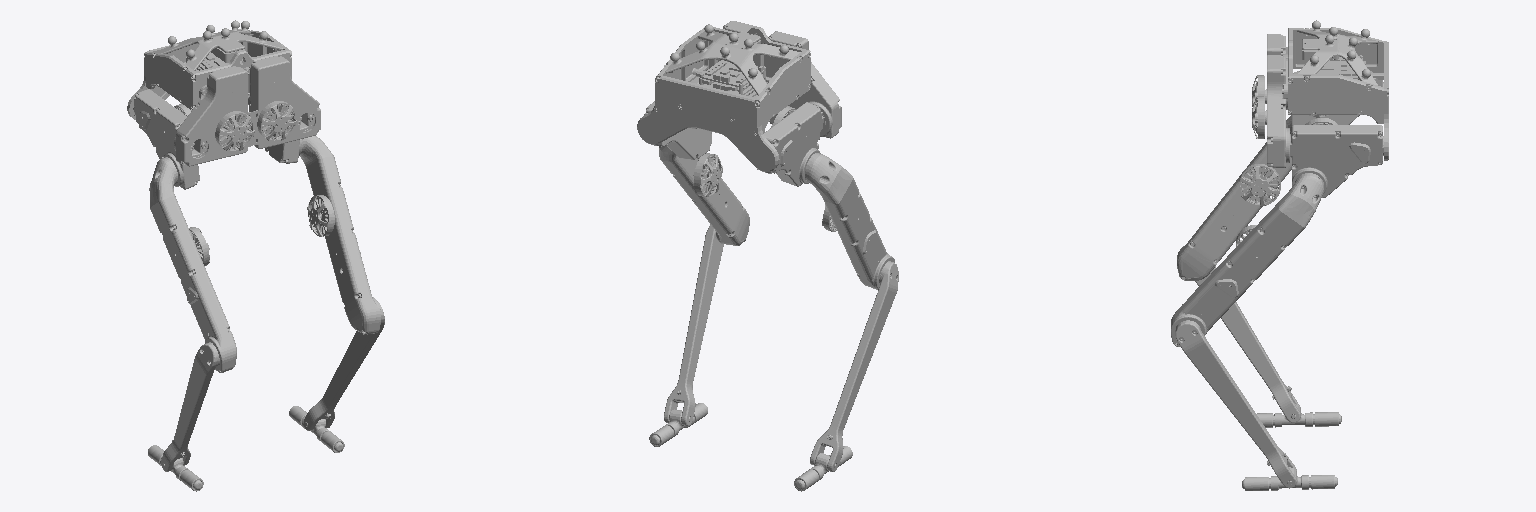
The robot description file, URDF, robot "__bl_biped":
<?xml version="1.0" encoding="utf-8"?>
<!-- This URDF was automatically created by SolidWorks to URDF Exporter! Originally created by Stephen Brawner (brawner@gmail.com) 
     Commit Version: 1.6.0-4-g7f85cfe  Build Version: 1.6.7995.38578
     For more information, please see http://wiki.ros.org/sw_urdf_exporter -->
<robot
  name="__bl_biped">
  <link
    name="base_link">
    <inertial>
      <origin
        xyz="7.4194E-05 0.048506 0.052268"
        rpy="0 0 0" />
      <mass
        value="0.15295" />
      <inertia
        ixx="6.4373E-05"
        ixy="-3.5521E-08"
        ixz="3.4441E-07"
        iyy="0.00014322"
        iyz="-3.3976E-06"
        izz="0.0001144" />
    </inertial>
    <visual>
      <origin
        xyz="0 0 0"
        rpy="0 0 0" />
      <geometry>
        <mesh
          filename="package://practice_biped_robot/meshes/base_link.STL" />
      </geometry>
      <material
        name="">
        <color
          rgba="0.75294 0.75294 0.75294 1" />
      </material>
    </visual>
    <collision>
      <origin
        xyz="0 0 0"
        rpy="0 0 0" />
      <geometry>
        <mesh
          filename="package://practice_biped_robot/meshes/base_link.STL" />
      </geometry>
    </collision>
  </link>
  <link
    name="hip_aa_left_side_bl_biped">
    <inertial>
      <origin
        xyz="-0.0017924 0.028387 -0.021631"
        rpy="0 0 0" />
      <mass
        value="0.093503" />
      <inertia
        ixx="6.6139E-05"
        ixy="-4.3362E-07"
        ixz="9.8289E-07"
        iyy="4.2159E-05"
        iyz="1.0505E-05"
        izz="3.0749E-05" />
    </inertial>
    <visual>
      <origin
        xyz="0 0 0"
        rpy="0 0 0" />
      <geometry>
        <mesh
          filename="package://practice_biped_robot/meshes/hip_aa_left_side_bl_biped.STL" />
      </geometry>
      <material
        name="">
        <color
          rgba="0.75294 0.75294 0.75294 1" />
      </material>
    </visual>
    <collision>
      <origin
        xyz="0 0 0"
        rpy="0 0 0" />
      <geometry>
        <mesh
          filename="package://practice_biped_robot/meshes/hip_aa_left_side_bl_biped.STL" />
      </geometry>
    </collision>
  </link>
  <joint
    name="hip_aa_left_side_bl_biped_joint"
    type="fixed">
    <origin
      xyz="-0.066 -0.1182 0"
      rpy="3.1416 0 1.5708" />
    <parent
      link="base_link" />
    <child
      link="hip_aa_left_side_bl_biped" />
    <axis
      xyz="0 0 0" />
  </joint>
  <link
    name="hip_fe_left_side_bl_biped">
    <inertial>
      <origin
        xyz="-0.00264656198378056 -0.0117373327096065 0.0449336453716666"
        rpy="0 0 0" />
      <mass
        value="0.0875377233211831" />
      <inertia
        ixx="6.82008834854275E-05"
        ixy="-2.03003326659631E-07"
        ixz="-2.45175493755949E-07"
        iyy="4.5069453666998E-05"
        iyz="-9.45093477969188E-06"
        izz="2.91118242506948E-05" />
    </inertial>
    <visual>
      <origin
        xyz="0 0 0"
        rpy="0 0 0" />
      <geometry>
        <mesh
          filename="package://practice_biped_robot/meshes/hip_fe_left_side_bl_biped.STL" />
      </geometry>
      <material
        name="">
        <color
          rgba="0.752941176470588 0.752941176470588 0.752941176470588 1" />
      </material>
    </visual>
    <collision>
      <origin
        xyz="0 0 0"
        rpy="0 0 0" />
      <geometry>
        <mesh
          filename="package://practice_biped_robot/meshes/hip_fe_left_side_bl_biped.STL" />
      </geometry>
    </collision>
  </link>
  <joint
    name="hip_fe_left_side_bl_biped_joint"
    type="continuous">
    <origin
      xyz="0.01 0 0"
      rpy="-1.5708 -0.12129 -1.5708" />
    <parent
      link="hip_aa_left_side_bl_biped" />
    <child
      link="hip_fe_left_side_bl_biped" />
    <axis
      xyz="0 0 1" />
  </joint>
  <link
    name="upper_leg_left">
    <inertial>
      <origin
        xyz="0.0337049648914777 -2.07744355823769E-05 -0.109703593119716"
        rpy="0 0 0" />
      <mass
        value="0.10377648641822" />
      <inertia
        ixx="0.000268105400038996"
        ixy="-1.13514210027242E-08"
        ixz="1.27896688803571E-05"
        iyy="0.000261762248291606"
        iyz="6.97692640896009E-08"
        izz="1.68226262641879E-05" />
    </inertial>
    <visual>
      <origin
        xyz="0 0 0"
        rpy="0 0 0" />
      <geometry>
        <mesh
          filename="package://practice_biped_robot/meshes/upper_leg_left.STL" />
      </geometry>
      <material
        name="">
        <color
          rgba="0.752941176470588 0.752941176470588 0.752941176470588 1" />
      </material>
    </visual>
    <collision>
      <origin
        xyz="0 0 0"
        rpy="0 0 0" />
      <geometry>
        <mesh
          filename="package://practice_biped_robot/meshes/upper_leg_left.STL" />
      </geometry>
    </collision>
  </link>
  <joint
    name="upper_leg_left_joint"
    type="continuous">
    <origin
      xyz="0 -0.04009 0.02445"
      rpy="-0.92879 0 0" />
    <parent
      link="hip_fe_left_side_bl_biped" />
    <child
      link="upper_leg_left" />
    <axis
      xyz="1 0 0" />
  </joint>
  <link
    name="lower_leg_left">
    <inertial>
      <origin
        xyz="-0.0385220333250463 -2.05346427539776E-06 -0.0881749362172527"
        rpy="0 0 0" />
      <mass
        value="0.053970406394337" />
      <inertia
        ixx="0.000210304316971374"
        ixy="-2.90237032213267E-11"
        ixz="-3.23159186131294E-06"
        iyy="0.000209791725136052"
        iyz="-7.12590129571036E-11"
        izz="3.06150796682135E-06" />
    </inertial>
    <visual>
      <origin
        xyz="0 0 0"
        rpy="0 0 0" />
      <geometry>
        <mesh
          filename="package://practice_biped_robot/meshes/lower_leg_left.STL" />
      </geometry>
      <material
        name="">
        <color
          rgba="0.752941176470588 0.752941176470588 0.752941176470588 1" />
      </material>
    </visual>
    <collision>
      <origin
        xyz="0 0 0"
        rpy="0 0 0" />
      <geometry>
        <mesh
          filename="package://practice_biped_robot/meshes/lower_leg_left.STL" />
      </geometry>
    </collision>
  </link>
  <joint
    name="lower_leg_left_joint"
    type="continuous">
    <origin
      xyz="0.01997 0 -0.2"
      rpy="1.1856 0 -3.1416" />
    <parent
      link="upper_leg_left" />
    <child
      link="lower_leg_left" />
    <axis
      xyz="1 0 0" />
  </joint>
  <link
    name="foot_left">
    <inertial>
      <origin
        xyz="5.99032361769947E-08 -0.00700427543915016 1.85583393930155E-08"
        rpy="0 0 0" />
      <mass
        value="0.0165935434374477" />
      <inertia
        ixx="8.21666243950823E-06"
        ixy="3.57318266999016E-12"
        ixz="2.36883054385825E-11"
        iyy="8.10382689201121E-06"
        iyz="-3.08746634705909E-12"
        izz="5.50701454433249E-07" />
    </inertial>
    <visual>
      <origin
        xyz="0 0 0"
        rpy="0 0 0" />
      <geometry>
        <mesh
          filename="package://practice_biped_robot/meshes/foot_left.STL" />
      </geometry>
      <material
        name="">
        <color
          rgba="0.752941176470588 0.752941176470588 0.752941176470588 1" />
      </material>
    </visual>
    <collision>
      <origin
        xyz="0 0 0"
        rpy="0 0 0" />
      <geometry>
        <mesh
          filename="package://practice_biped_robot/meshes/foot_left.STL" />
      </geometry>
    </collision>
  </link>
  <joint
    name="foot_left_joint"
    type="fixed">
    <origin
      xyz="-0.03943 0 -0.2"
      rpy="1.0472 0 0" />
    <parent
      link="lower_leg_left" />
    <child
      link="foot_left" />
    <axis
      xyz="0 0 0" />
  </joint>
  <link
    name="hip_aa_right_side_bl_biped">
    <inertial>
      <origin
        xyz="-0.0017935 -0.028388 -0.021631"
        rpy="0 0 0" />
      <mass
        value="0.093502" />
      <inertia
        ixx="6.6138E-05"
        ixy="4.3374E-07"
        ixz="9.8305E-07"
        iyy="4.216E-05"
        iyz="-1.0503E-05"
        izz="3.0749E-05" />
    </inertial>
    <visual>
      <origin
        xyz="0 0 0"
        rpy="0 0 0" />
      <geometry>
        <mesh
          filename="package://practice_biped_robot/meshes/hip_aa_right_side_bl_biped.STL" />
      </geometry>
      <material
        name="">
        <color
          rgba="0.75294 0.75294 0.75294 1" />
      </material>
    </visual>
    <collision>
      <origin
        xyz="0 0 0"
        rpy="0 0 0" />
      <geometry>
        <mesh
          filename="package://practice_biped_robot/meshes/hip_aa_right_side_bl_biped.STL" />
      </geometry>
    </collision>
  </link>
  <joint
    name="hip_aa_right_side_bl_biped"
    type="fixed">
    <origin
      xyz="0.066 -0.1182 0"
      rpy="3.1416 0 1.5708" />
    <parent
      link="base_link" />
    <child
      link="hip_aa_right_side_bl_biped" />
    <axis
      xyz="0 0 0" />
  </joint>
  <link
    name="hip_fe_right_side_bl_biped">
    <inertial>
      <origin
        xyz="-0.00264759104456501 -0.0117375436090387 -0.0449332991893937"
        rpy="0 0 0" />
      <mass
        value="0.0875393673311257" />
      <inertia
        ixx="6.82030069011361E-05"
        ixy="-2.02901065429794E-07"
        ixz="2.45045267676802E-07"
        iyy="4.50813094160471E-05"
        iyz="9.44989188438618E-06"
        izz="2.9123047290005E-05" />
    </inertial>
    <visual>
      <origin
        xyz="0 0 0"
        rpy="0 0 0" />
      <geometry>
        <mesh
          filename="package://practice_biped_robot/meshes/hip_fe_right_side_bl_biped.STL" />
      </geometry>
      <material
        name="">
        <color
          rgba="0.752941176470588 0.752941176470588 0.752941176470588 1" />
      </material>
    </visual>
    <collision>
      <origin
        xyz="0 0 0"
        rpy="0 0 0" />
      <geometry>
        <mesh
          filename="package://practice_biped_robot/meshes/hip_fe_right_side_bl_biped.STL" />
      </geometry>
    </collision>
  </link>
  <joint
    name="hip_fe_right_side_bl_biped_joint"
    type="continuous">
    <origin
      xyz="0.01 0 0"
      rpy="-1.5708 -0.088416 1.5708" />
    <parent
      link="hip_aa_right_side_bl_biped" />
    <child
      link="hip_fe_right_side_bl_biped" />
    <axis
      xyz="0 0 1" />
  </joint>
  <link
    name="upper_leg_right">
    <inertial>
      <origin
        xyz="0.033705 -2.0751E-05 -0.1097"
        rpy="0 0 0" />
      <mass
        value="0.10378" />
      <inertia
        ixx="0.00026811"
        ixy="-1.1395E-08"
        ixz="1.2791E-05"
        iyy="0.00026175"
        iyz="6.9379E-08"
        izz="1.6808E-05" />
    </inertial>
    <visual>
      <origin
        xyz="0 0 0"
        rpy="0 0 0" />
      <geometry>
        <mesh
          filename="package://practice_biped_robot/meshes/upper_leg_right.STL" />
      </geometry>
      <material
        name="">
        <color
          rgba="0.75294 0.75294 0.75294 1" />
      </material>
    </visual>
    <collision>
      <origin
        xyz="0 0 0"
        rpy="0 0 0" />
      <geometry>
        <mesh
          filename="package://practice_biped_robot/meshes/upper_leg_right.STL" />
      </geometry>
    </collision>
  </link>
  <joint
    name="upper_leg_right_joint"
    type="continuous">
    <origin
      xyz="0 -0.04009 -0.02445"
      rpy="-2.2544 0 0" />
    <parent
      link="hip_fe_right_side_bl_biped" />
    <child
      link="upper_leg_right" />
    <axis
      xyz="1 0 0" />
  </joint>
  <link
    name="lower_leg_right">
    <inertial>
      <origin
        xyz="-0.013866 -2.0394E-06 -0.088175"
        rpy="0 0 0" />
      <mass
        value="0.05397" />
      <inertia
        ixx="0.0002103"
        ixy="-3.0611E-11"
        ixz="-3.2316E-06"
        iyy="0.00020979"
        iyz="-7.5916E-11"
        izz="3.0615E-06" />
    </inertial>
    <visual>
      <origin
        xyz="0 0 0"
        rpy="0 0 0" />
      <geometry>
        <mesh
          filename="package://practice_biped_robot/meshes/lower_leg_right.STL" />
      </geometry>
      <material
        name="">
        <color
          rgba="0.75294 0.75294 0.75294 1" />
      </material>
    </visual>
    <collision>
      <origin
        xyz="0 0 0"
        rpy="0 0 0" />
      <geometry>
        <mesh
          filename="package://practice_biped_robot/meshes/lower_leg_right.STL" />
      </geometry>
    </collision>
  </link>
  <joint
    name="lower_leg_right_joint"
    type="continuous">
    <origin
      xyz="0.044626 0 -0.2"
      rpy="-1.2419 0 3.1416" />
    <parent
      link="upper_leg_right" />
    <child
      link="lower_leg_right" />
    <axis
      xyz="1 0 0" />
  </joint>
  <link
    name="foot_right">
    <inertial>
      <origin
        xyz="7.0722E-08 -0.0070043 -4.6886E-09"
        rpy="0 0 0" />
      <mass
        value="0.016594" />
      <inertia
        ixx="8.2167E-06"
        ixy="2.3354E-12"
        ixz="2.0099E-11"
        iyy="8.1038E-06"
        iyz="1.9059E-12"
        izz="5.507E-07" />
    </inertial>
    <visual>
      <origin
        xyz="0 0 0"
        rpy="0 0 0" />
      <geometry>
        <mesh
          filename="package://practice_biped_robot/meshes/foot_right.STL" />
      </geometry>
      <material
        name="">
        <color
          rgba="0.75294 0.75294 0.75294 1" />
      </material>
    </visual>
    <collision>
      <origin
        xyz="0 0 0"
        rpy="0 0 0" />
      <geometry>
        <mesh
          filename="package://practice_biped_robot/meshes/foot_right.STL" />
      </geometry>
    </collision>
  </link>
  <joint
    name="foot_right_joint"
    type="fixed">
    <origin
      xyz="-0.014774 0 -0.2"
      rpy="1.0472 0 -3.1416" />
    <parent
      link="lower_leg_right" />
    <child
      link="foot_right" />
    <axis
      xyz="0 0 0" />
  </joint>
</robot>

--- What the picture shows (computed from the rendered views, not written in the file) ---
Views: 3 orthographic renders of the robot side by side, from view 1: azimuth 30°, elevation 25°; view 2: azimuth 150°, elevation 25°; view 3: azimuth 270°, elevation 25°.
Model __bl_biped with 11 links and 10 joints (6 continuous, 4 fixed), rooted at base_link, posed every joint at zero.
Visible links, largest first — view 1: base_link, upper_leg_right, upper_leg_left, hip_aa_left_side_bl_biped, hip_aa_right_side_bl_biped, hip_fe_left_side_bl_biped, lower_leg_left, lower_leg_right, foot_right, foot_left, hip_fe_right_side_bl_biped; view 2: base_link, upper_leg_left, upper_leg_right, lower_leg_left, lower_leg_right, hip_fe_left_side_bl_biped, hip_aa_left_side_bl_biped, hip_fe_right_side_bl_biped, foot_right, foot_left; view 3: base_link, upper_leg_right, upper_leg_left, hip_fe_right_side_bl_biped, lower_leg_right, hip_aa_right_side_bl_biped, lower_leg_left, foot_right, foot_left, hip_aa_left_side_bl_biped.
Link boxes in pixels (left/top/right/bottom): base_link: left=127, top=20, right=291, bottom=119; upper_leg_right: left=300, top=136, right=380, bottom=334; upper_leg_left: left=149, top=157, right=236, bottom=372; hip_aa_left_side_bl_biped: left=174, top=66, right=254, bottom=166; hip_aa_right_side_bl_biped: left=244, top=56, right=320, bottom=148; hip_fe_left_side_bl_biped: left=134, top=89, right=199, bottom=189; lower_leg_left: left=161, top=342, right=219, bottom=471; lower_leg_right: left=304, top=301, right=384, bottom=430; foot_right: left=289, top=406, right=344, bottom=452; foot_left: left=148, top=445, right=203, bottom=491; hip_fe_right_side_bl_biped: left=248, top=99, right=302, bottom=163; base_link: left=637, top=24, right=810, bottom=171; upper_leg_left: left=805, top=153, right=894, bottom=289; upper_leg_right: left=659, top=146, right=749, bottom=245; lower_leg_left: left=810, top=261, right=898, bottom=471; lower_leg_right: left=664, top=224, right=723, bottom=425; hip_fe_left_side_bl_biped: left=757, top=102, right=823, bottom=186; hip_aa_left_side_bl_biped: left=766, top=31, right=841, bottom=138; hip_fe_right_side_bl_biped: left=644, top=77, right=711, bottom=159; foot_right: left=649, top=403, right=707, bottom=446; foot_left: left=794, top=446, right=852, bottom=491; base_link: left=1288, top=20, right=1388, bottom=160; upper_leg_right: left=1171, top=173, right=1323, bottom=346; upper_leg_left: left=1177, top=115, right=1291, bottom=280; hip_fe_right_side_bl_biped: left=1290, top=118, right=1383, bottom=197; lower_leg_right: left=1175, top=320, right=1296, bottom=488; hip_aa_right_side_bl_biped: left=1252, top=55, right=1289, bottom=167; lower_leg_left: left=1195, top=266, right=1300, bottom=422; foot_right: left=1242, top=467, right=1337, bottom=490; foot_left: left=1257, top=404, right=1341, bottom=427; hip_aa_left_side_bl_biped: left=1252, top=34, right=1287, bottom=109.
Bounding box of the posed robot: 0.2189 × 0.2286 × 0.4905 m (x, y, z).
Meshes: 11 distinct files referenced, 11 mesh visuals loaded (11 binary STL).
